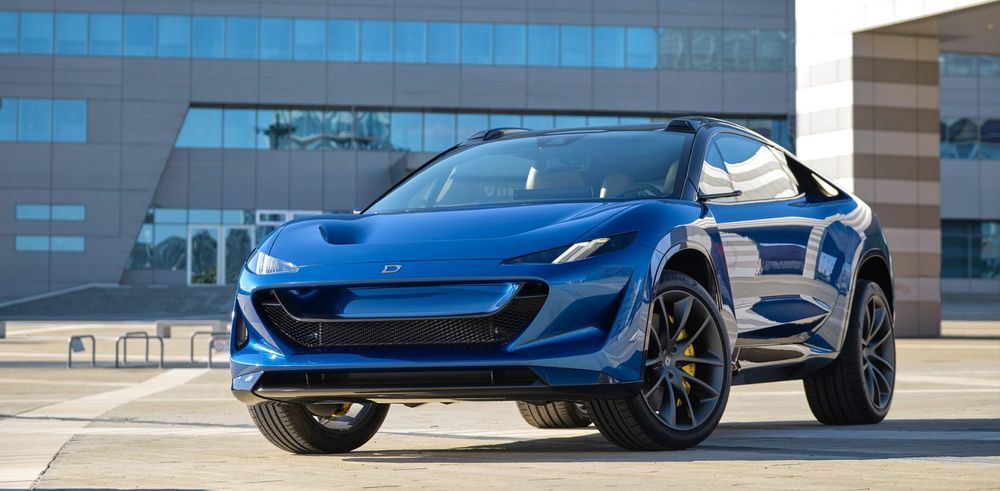car: (218, 106, 904, 455)
